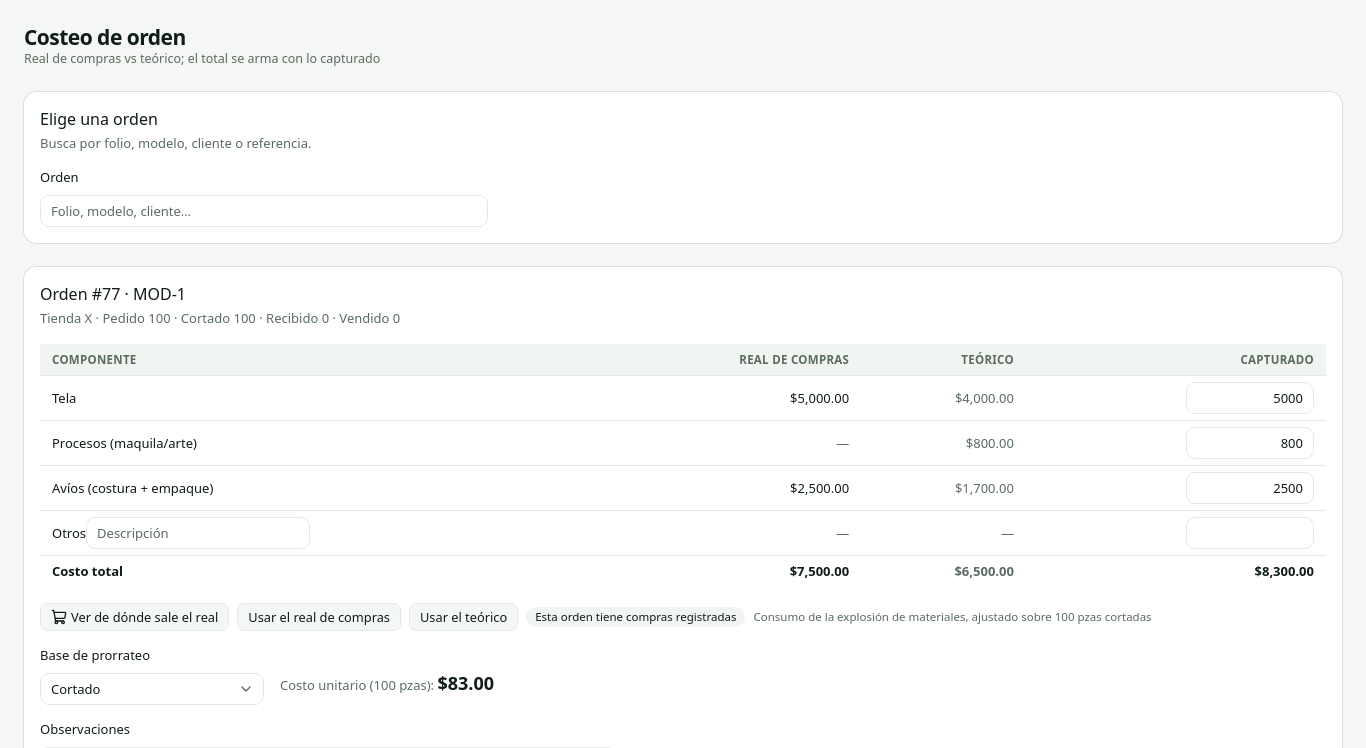
Test: CosteoOrdenPagina — los tres números (real / teórico / capturado) › "Usar el teórico" y "Usar el real de compras" copian a los campos capturables
Step 1. Click the button with test id "costeo-usar-teorico" → (464, 617), box [409,603,518,631]
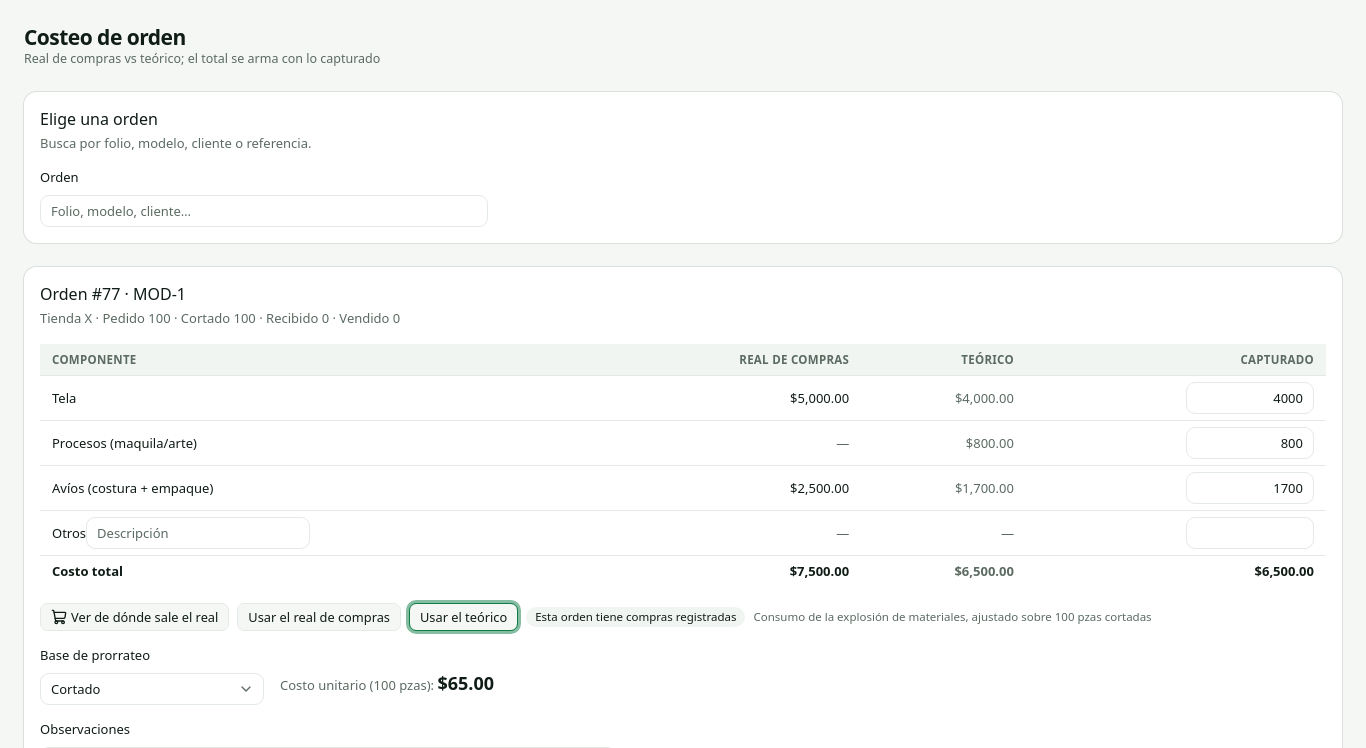
Result: the number field with test id "costeo-tela" holds "4000" at [1186,382,1314,414]
Step 2. Click the button with test id "costeo-usar-real" → (319, 617), box [237,603,401,631]
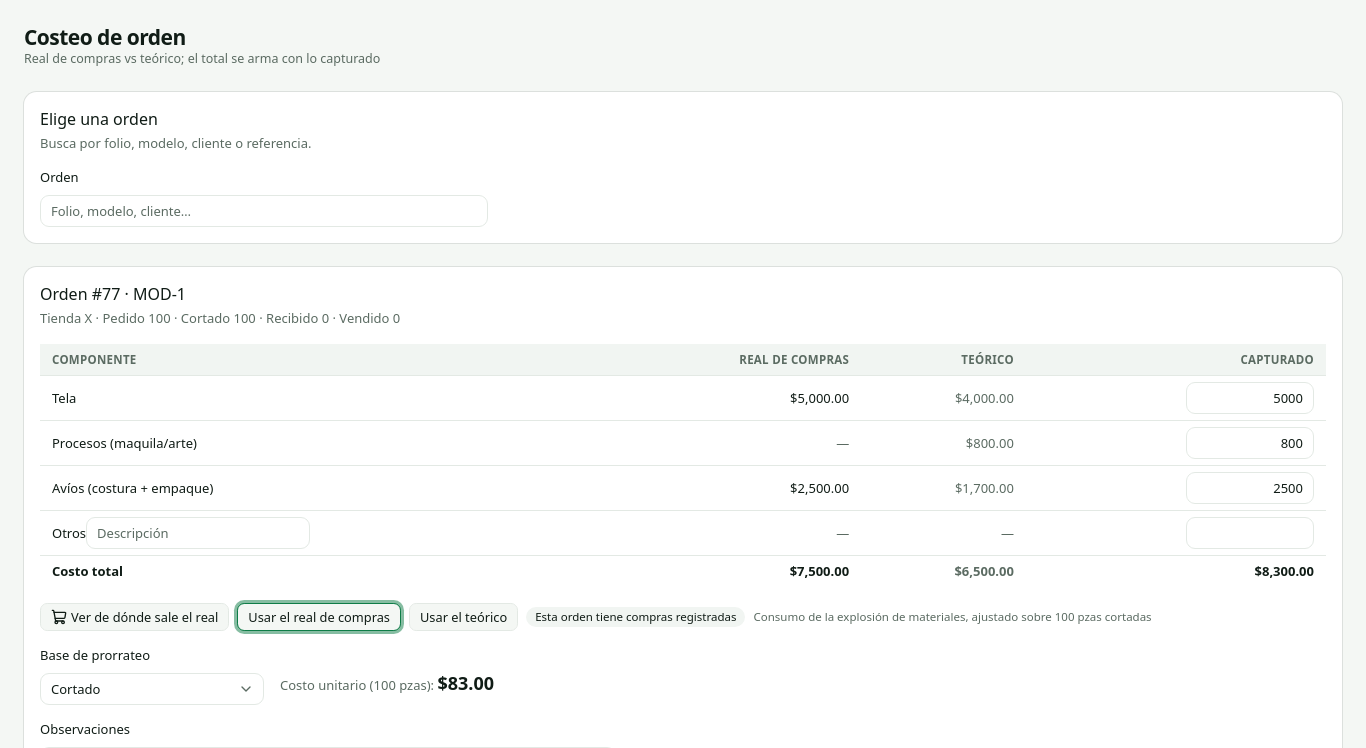
Result: the number field with test id "costeo-tela" holds "5000" at [1186,382,1314,414]
